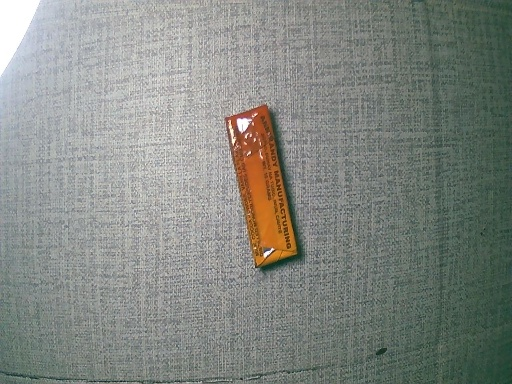plastic: (220, 100, 301, 279)
